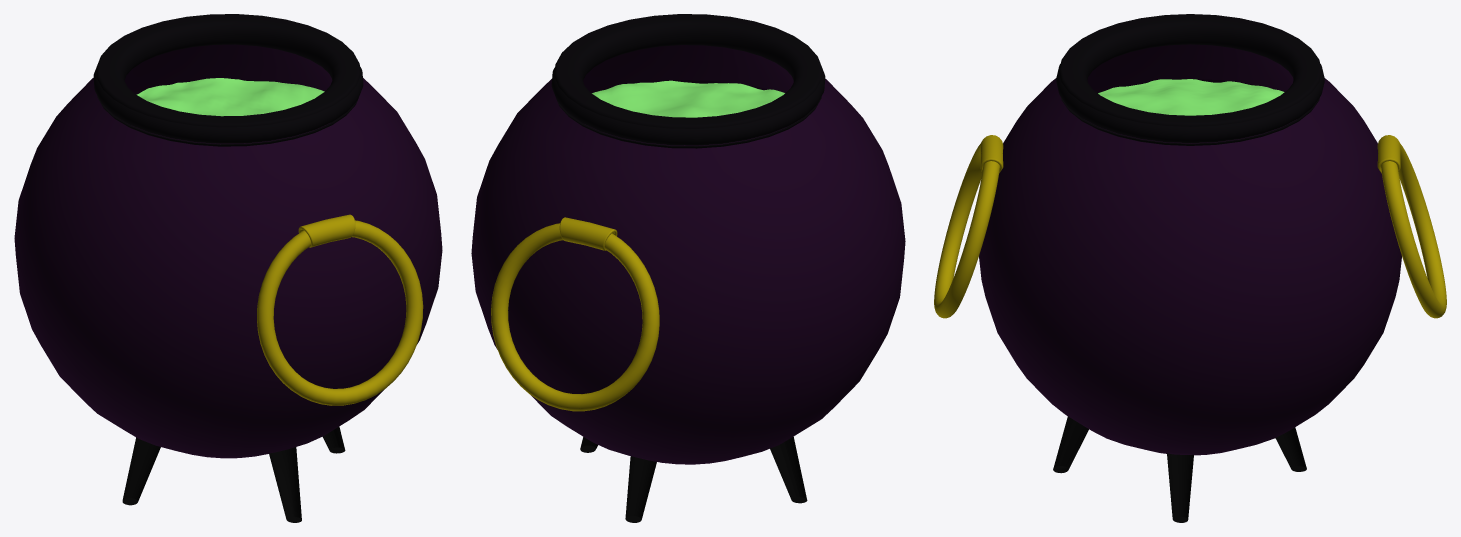
File: CauldronFix.fbx
3 views of the same model, side by side, from view 1: azimuth 30°, elevation 25°; view 2: azimuth 150°, elevation 25°; view 3: azimuth 270°, elevation 25° (orthographic). The views are drawn at different scales.
Visible parts, largest first — view 1: Cauldron, Lip, Handle, Potion, Foot; view 2: Cauldron, Lip, Handle, Potion, Foot; view 3: Cauldron, Lip, Handle, Potion, Foot.
Boxes of the visible parts, x1,y1,x2,y2 form: Cauldron: (14, 44, 442, 458); Lip: (93, 14, 363, 146); Handle: (257, 214, 423, 405); Potion: (136, 78, 324, 116); Foot: (122, 426, 345, 522); Cauldron: (471, 45, 905, 464); Lip: (551, 14, 825, 148); Handle: (491, 217, 659, 411); Potion: (592, 80, 784, 117); Foot: (580, 436, 807, 522); Cauldron: (979, 44, 1401, 455); Lip: (1056, 14, 1324, 145); Handle: (934, 135, 1446, 318); Potion: (1098, 79, 1284, 115); Foot: (1053, 416, 1306, 522).
Size of the model in its own units: 200 by 208 by 241.
